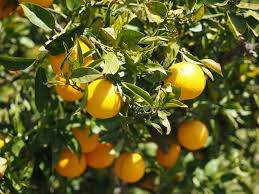orange: (162, 62, 207, 100), (51, 40, 92, 76), (87, 79, 122, 118), (54, 76, 87, 103)
